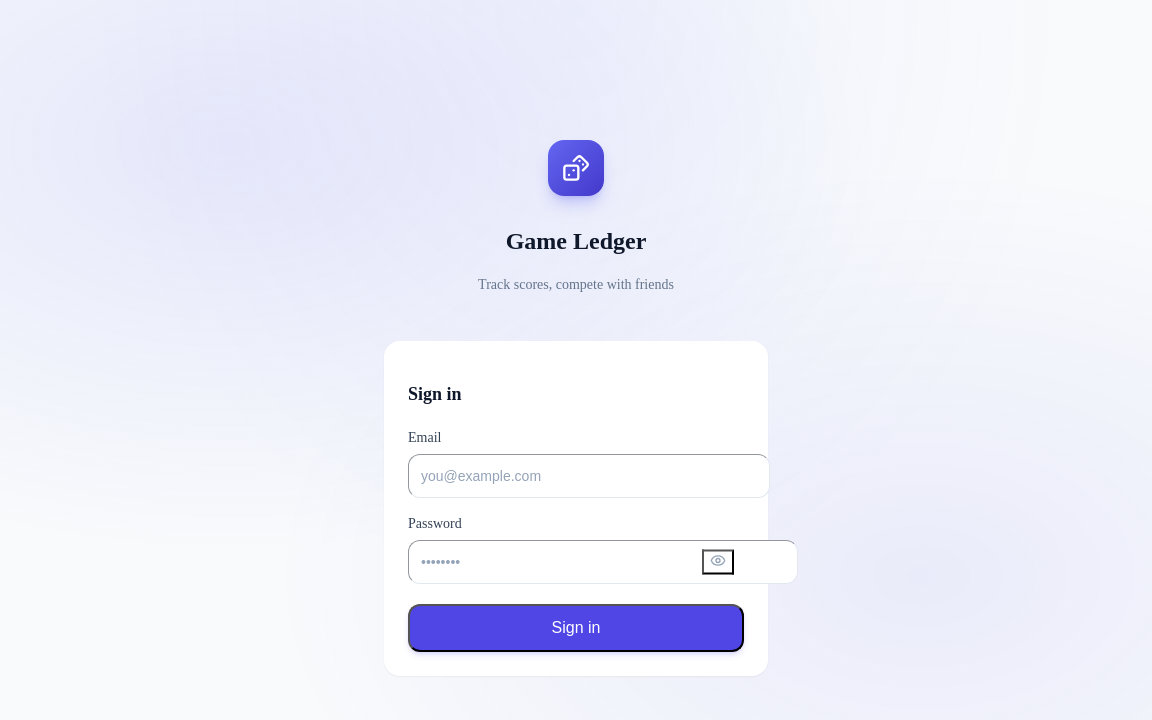
Test: Login page › shows lockout message when API returns locked error
The image size is (1152, 720).
Type "test@example.com" into the field labelled "Email".
click(589, 476); type("test@example.com")  # box [408,454,770,498]
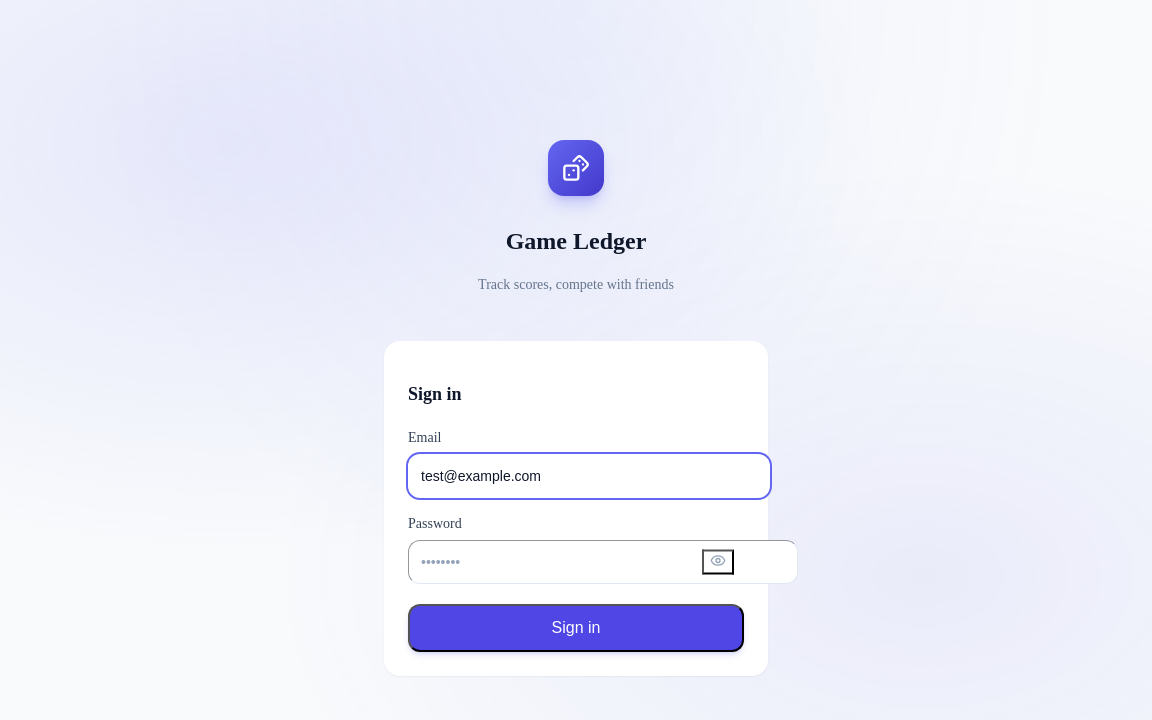
Type "wrong" into the password field labelled "Password".
click(603, 562); type("wrong")  # box [408,540,798,584]
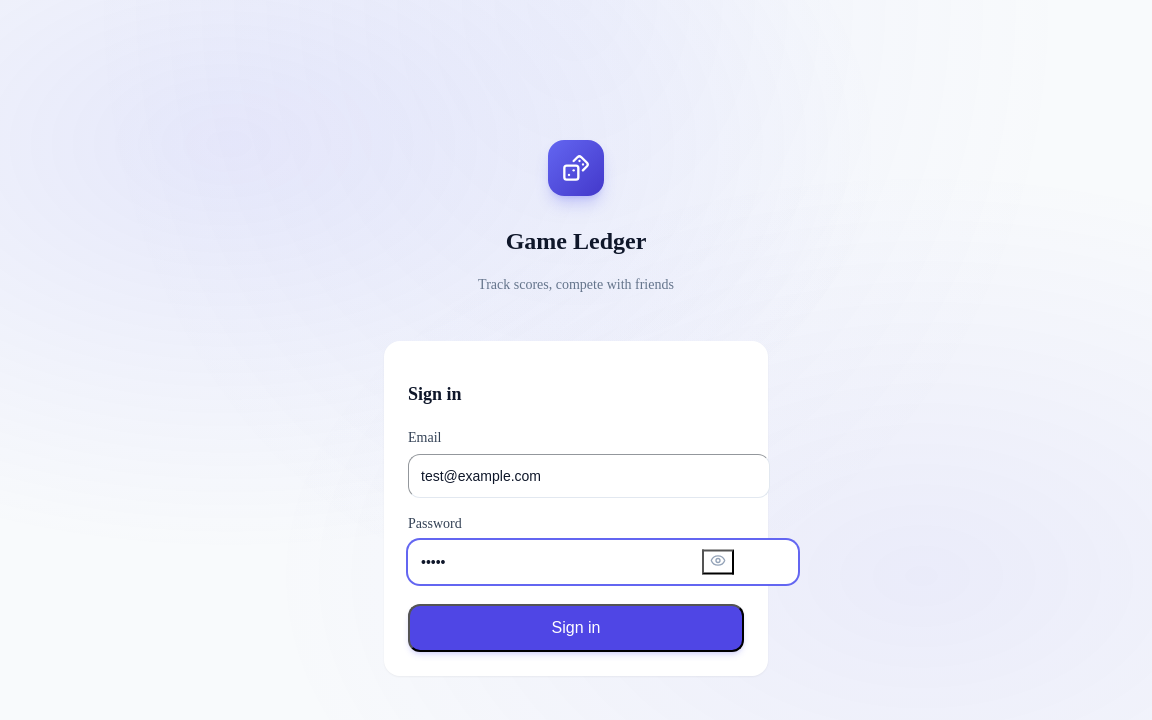
Click the button "Sign in".
click(576, 628)  # box [408,604,744,652]
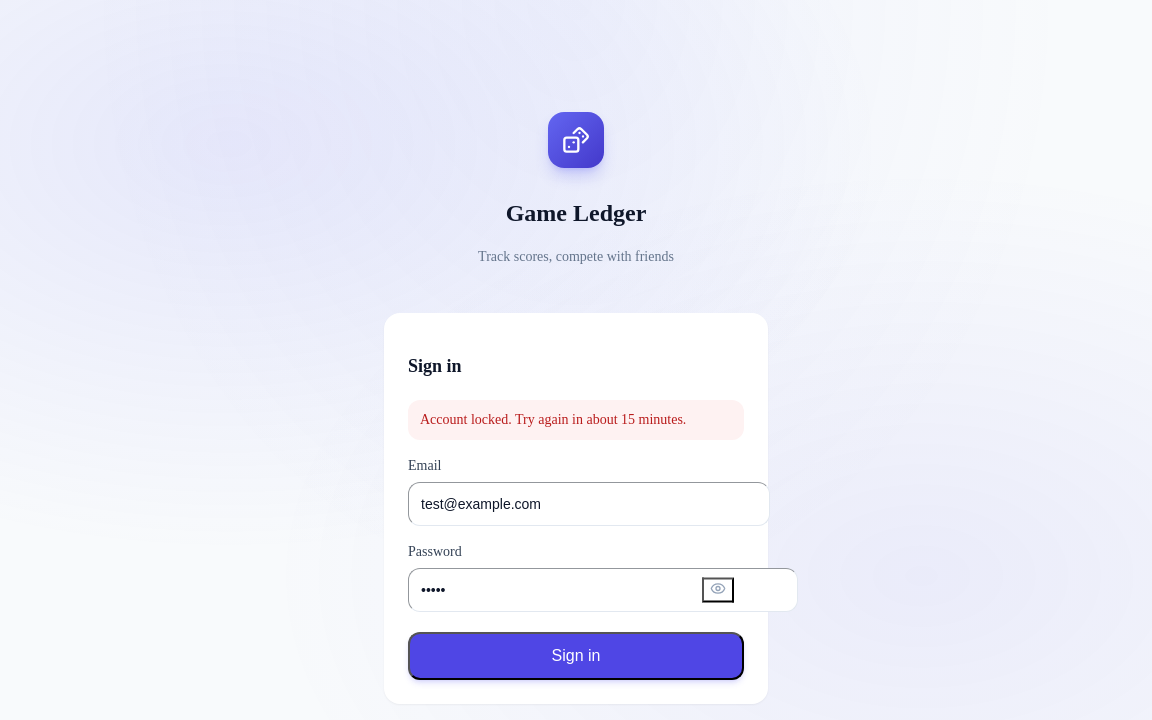
Now the message "Account locked. Try again in about 15 minutes." is shown, box [408,400,744,440]
Now the message shows "locked", box [420,412,686,426]
